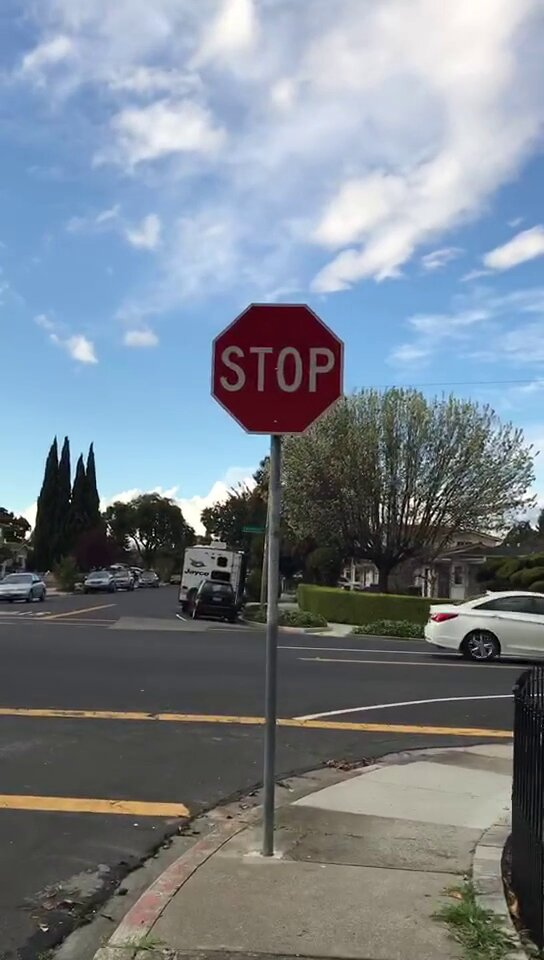stop_sign: (212, 306, 344, 435)
